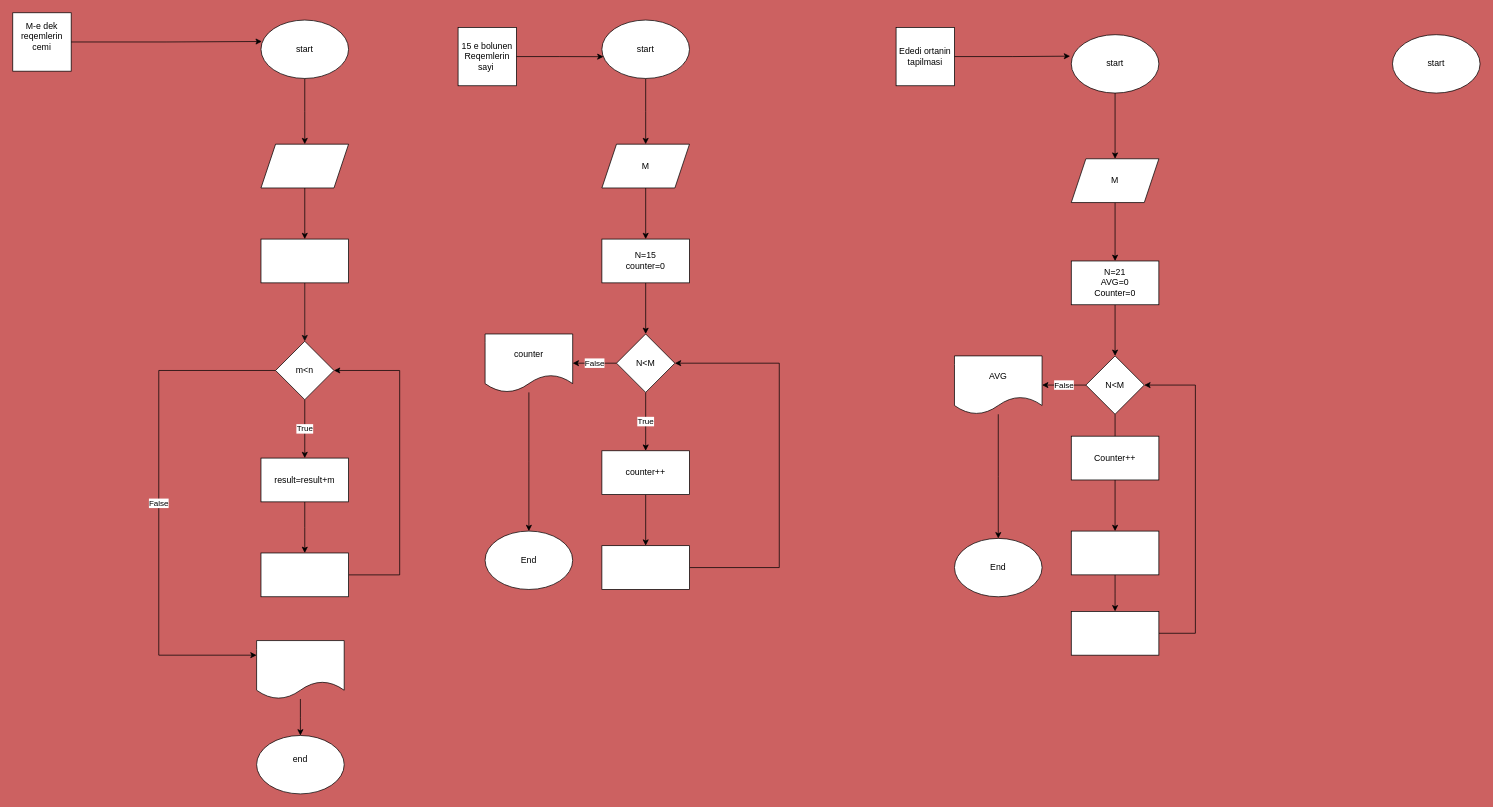
Image size: 1493x807. Some labels were removed from this diagram. Each missing label, with the centre of its shape:
AVG=(AVG+N)/Counter: the point at 1115,552
m++: the point at 304,574
N+=15: the point at 645,567
N+=21: the point at 1115,633
n,m: the point at 304,165
result: the point at 300,669
result=0: the point at 304,260
